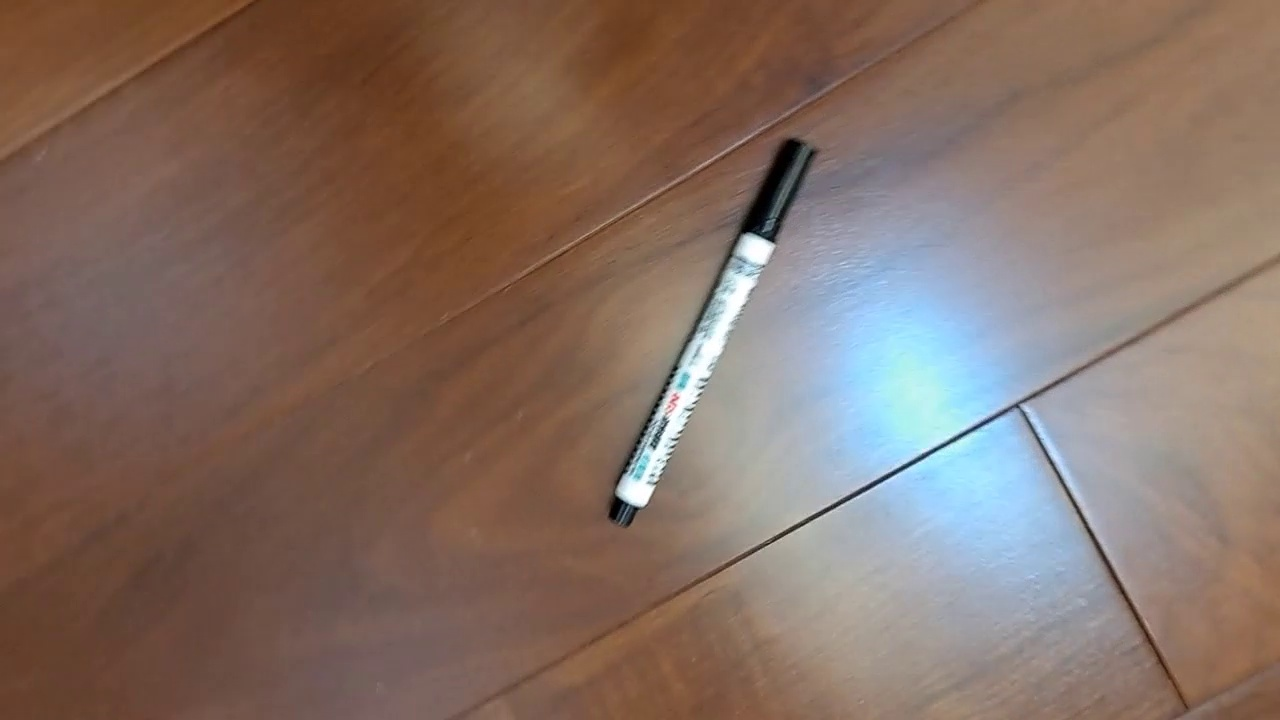pen: (607, 134, 822, 529)
